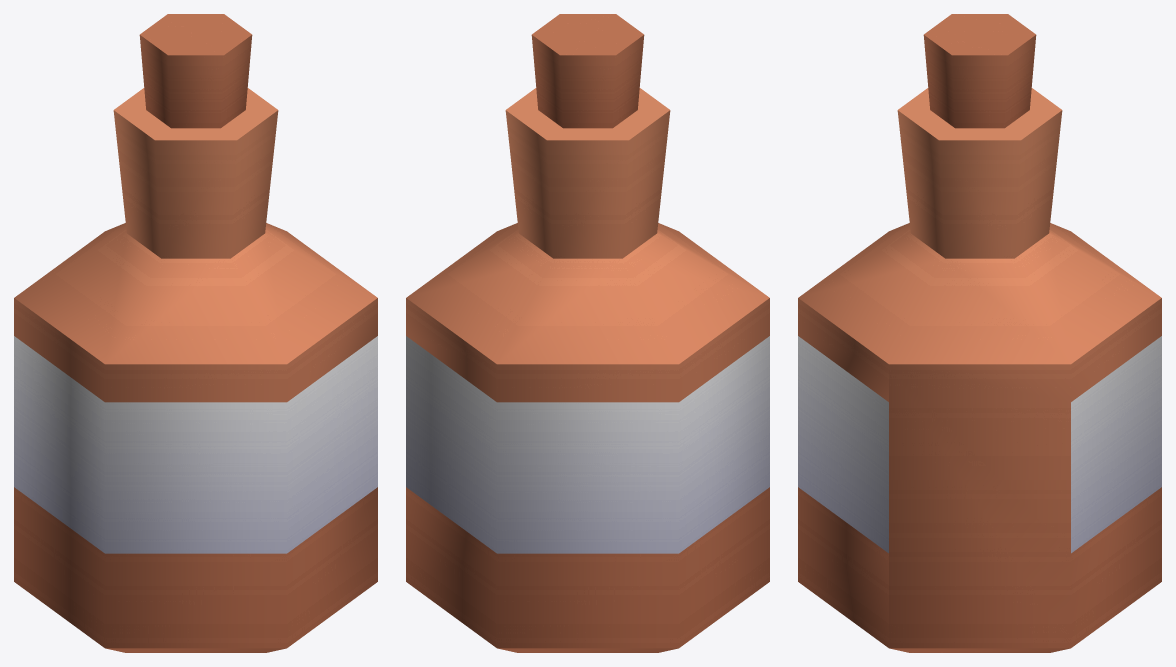
The model's file is bottle-large.glb.
3 views of the same model, side by side, from view 1: azimuth 30°, elevation 25°; view 2: azimuth 150°, elevation 25°; view 3: azimuth 270°, elevation 25° (orthographic).
Visible parts, largest first — view 1: bottle-large; view 2: bottle-large; view 3: bottle-large.
Boxes of the visible parts, x1,y1,x2,y2 form: bottle-large: (14, 14, 377, 652); bottle-large: (406, 14, 769, 652); bottle-large: (798, 14, 1161, 652).
Bounding box in the file's own units: 0.0724 × 0.1439 × 0.0837.
1 material, 1 textured.
